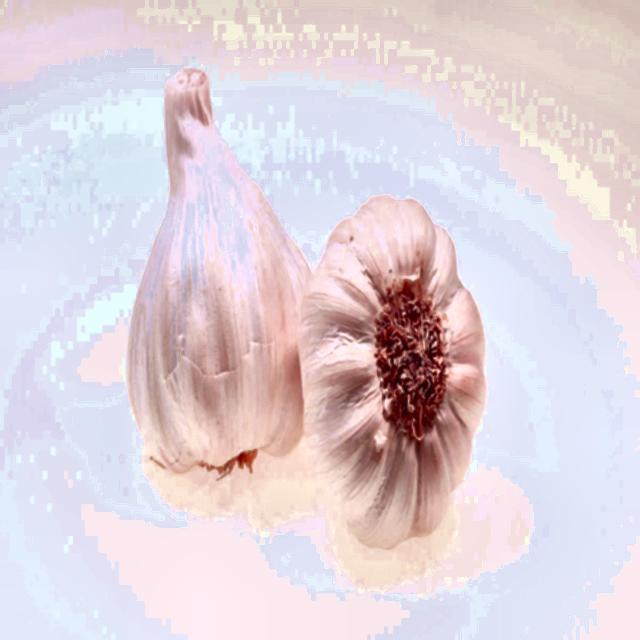garlic: (128, 69, 310, 477), (300, 196, 485, 547)
